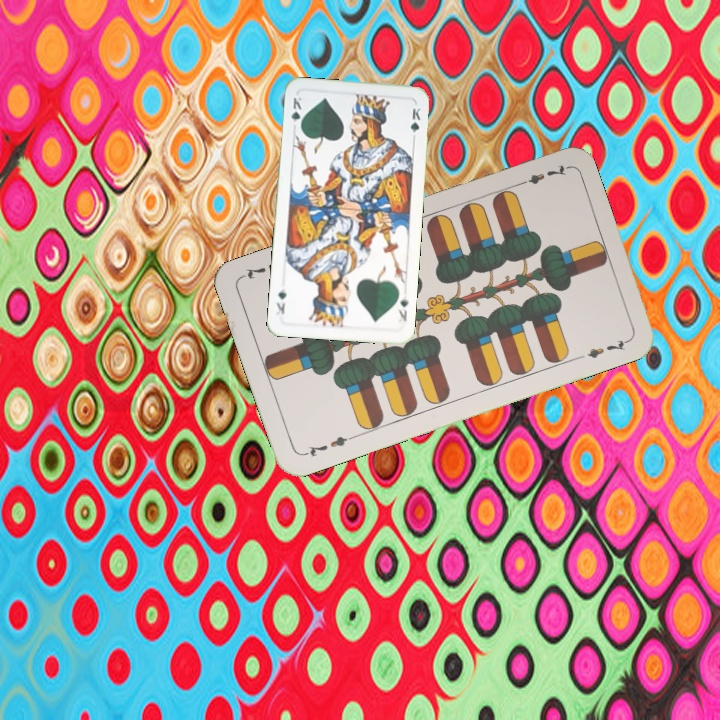E7: (299, 431, 357, 460), (512, 161, 570, 189)
GK: (287, 93, 304, 132), (394, 291, 411, 324)
